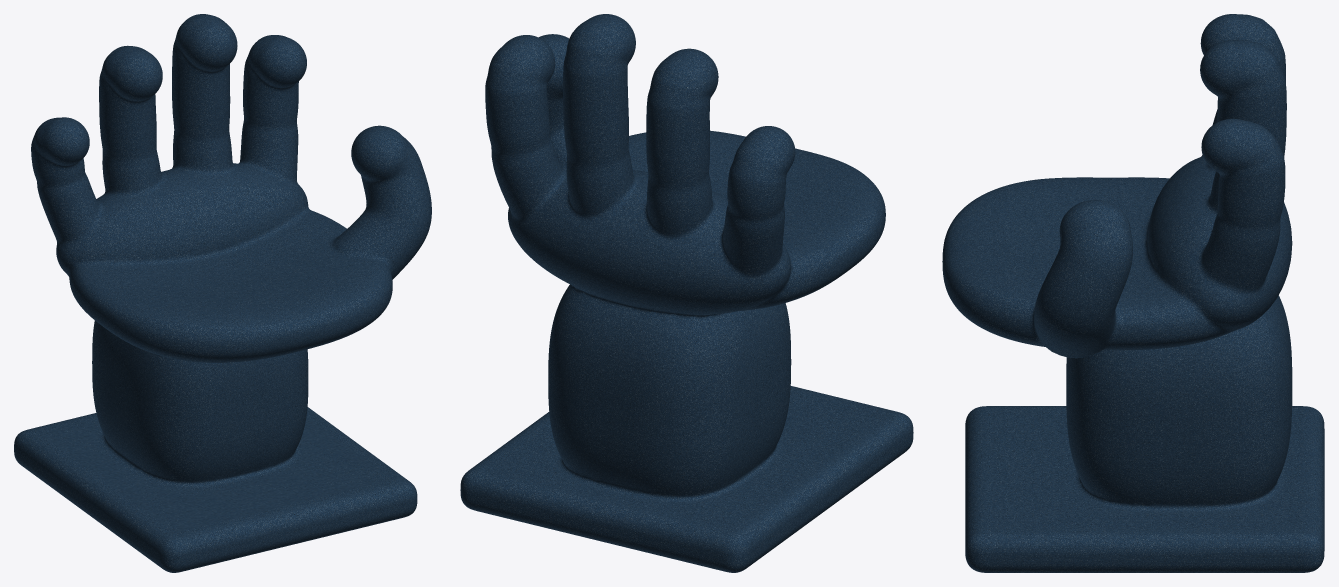
File: blue-granite-hand-chair.glb
3 views of the same model, side by side, from view 1: azimuth 30°, elevation 25°; view 2: azimuth 150°, elevation 25°; view 3: azimuth 270°, elevation 25° (orthographic). The views are drawn at different scales.
Parts seen in each view (by area): view 1: One-piece molded hand chair; view 2: One-piece molded hand chair; view 3: One-piece molded hand chair.
Boxes of the visible parts, box(x1,y1,x2,y2) form: One-piece molded hand chair: box(14, 14, 431, 572); One-piece molded hand chair: box(460, 14, 913, 572); One-piece molded hand chair: box(942, 14, 1324, 572).
Bounding box in the file's own units: 0.6096 × 0.8001 × 0.5715.
1 material, 1 textured.
